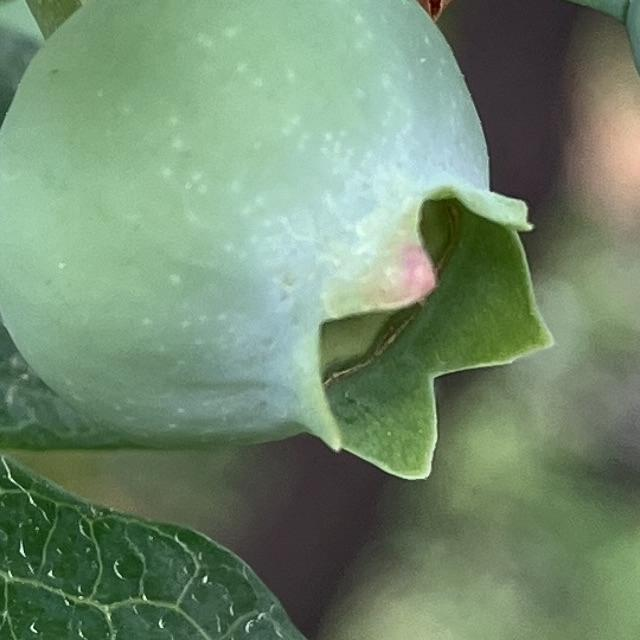Blueberries: (0, 0, 570, 507)
